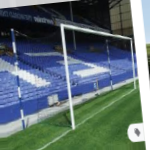goals: (26, 21, 137, 130)
